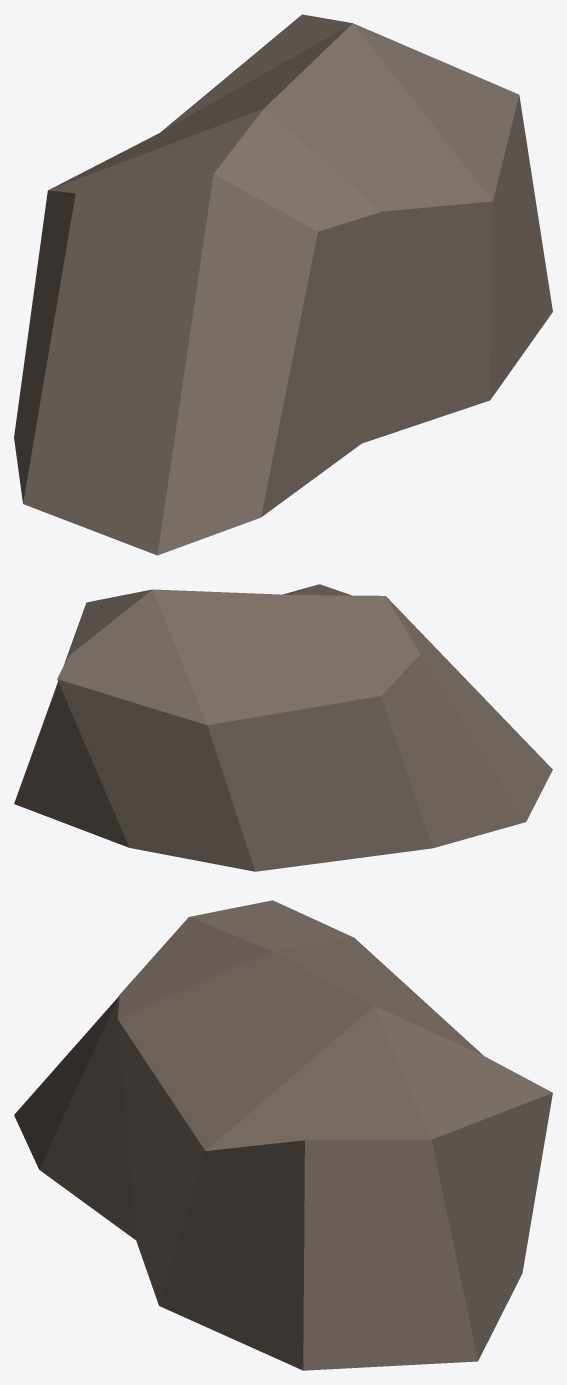
The model's file is rock_2.FBX.
3 views of the same model, one above another, from view 1: azimuth 30°, elevation 25°; view 2: azimuth 150°, elevation 25°; view 3: azimuth 270°, elevation 25° (orthographic). The views are drawn at different scales.
Parts seen in each view (by area): view 1: rock_2; view 2: rock_2; view 3: rock_2.
Part boxes in pixels (x1,y1,x2,y2): rock_2: (14, 14, 552, 555); rock_2: (14, 584, 552, 871); rock_2: (14, 900, 552, 1370).
Bounding box in the file's own units: 31.07 × 15.06 × 25.46.
